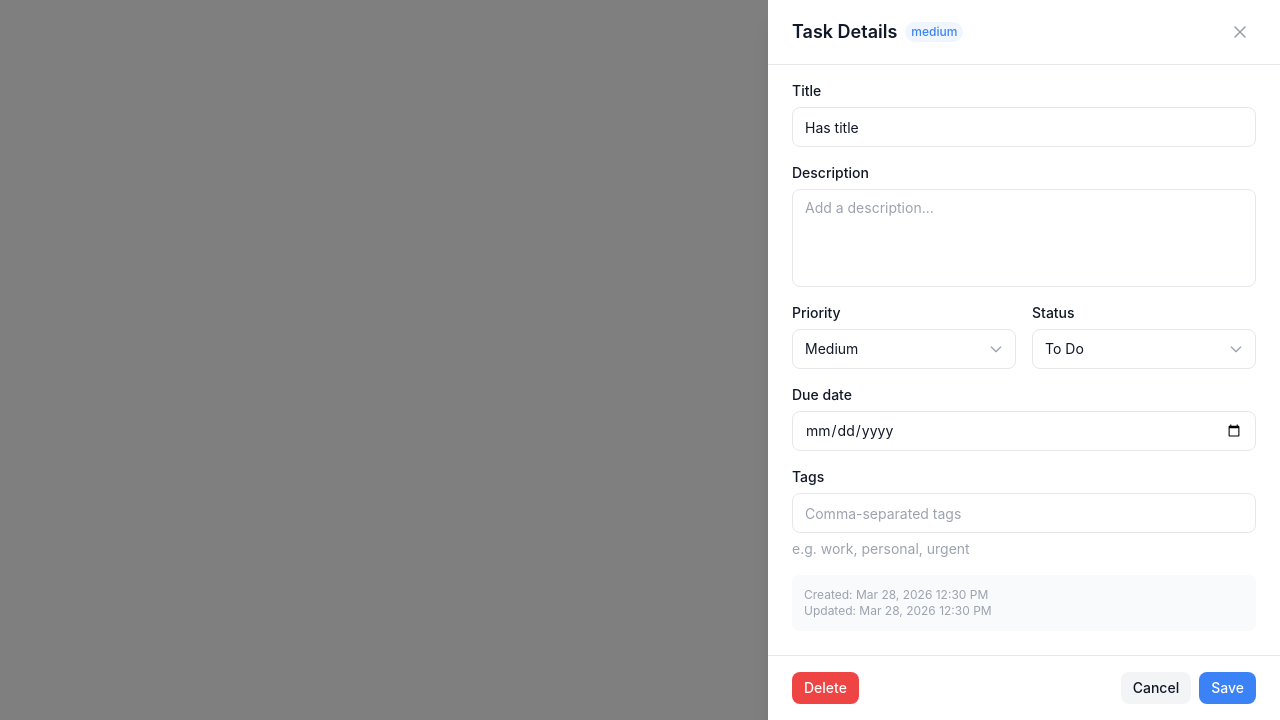
Test: TaskDetailPanel › disables Save when title is empty
The image size is (1280, 720).
Clear the field labelled "Title". click: {"x": 1024, "y": 127}
box: [792, 107, 1256, 147]
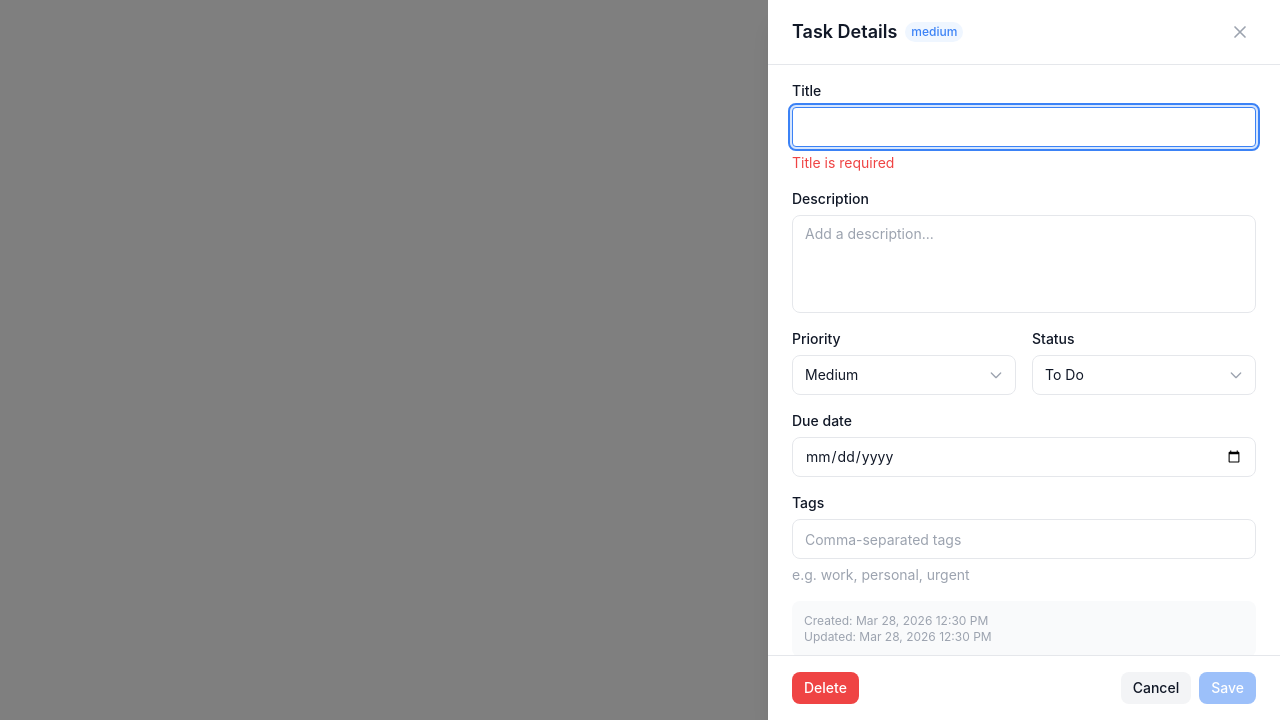
Expected: the button "Save" is disabled, [1199, 672, 1256, 704]
